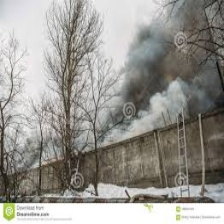smoke: (95, 78, 201, 142)
